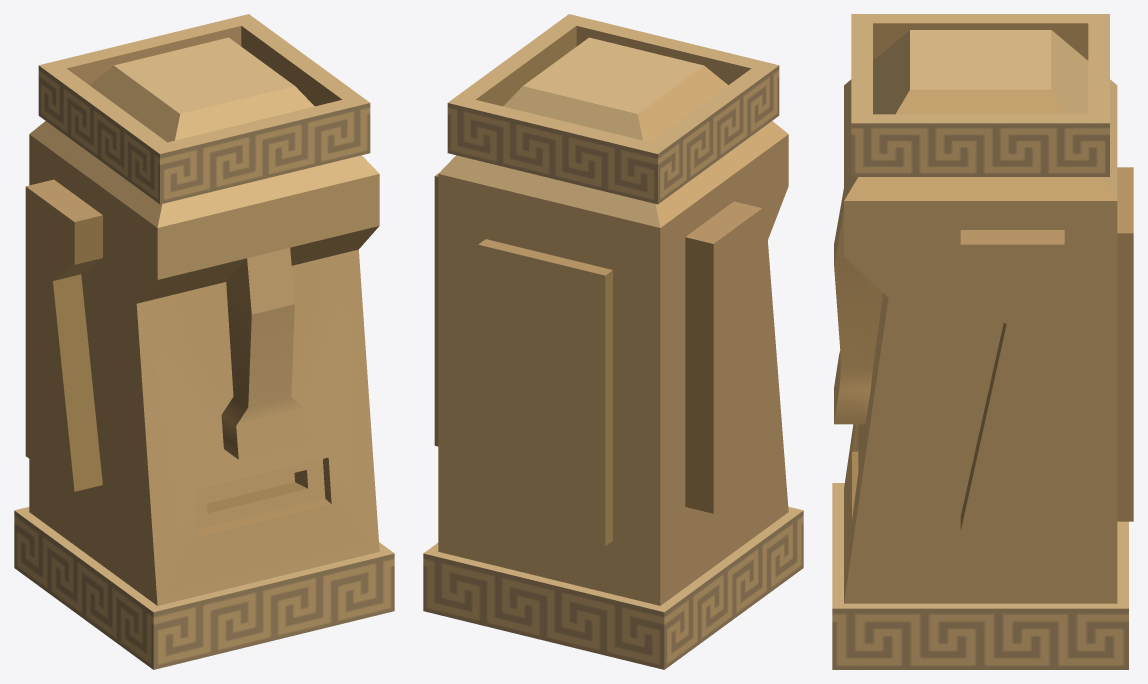
File: ST_Prop_Statue_Large_01.fbx
The picture shows the model from 3 angles, left to right: view 1: azimuth 30°, elevation 25°; view 2: azimuth 150°, elevation 25°; view 3: azimuth 270°, elevation 25°; orthographic projection. The views are drawn at different scales.
Visible parts, largest first — view 1: ST_Prop_Statue_Large_01; view 2: ST_Prop_Statue_Large_01; view 3: ST_Prop_Statue_Large_01.
Boxes of the visible parts, left/top/right/bottom form: ST_Prop_Statue_Large_01: left=14, top=14, right=394, bottom=669; ST_Prop_Statue_Large_01: left=423, top=14, right=803, bottom=669; ST_Prop_Statue_Large_01: left=832, top=14, right=1133, bottom=669.
Size of the model in its own units: 3.96 by 6.97 by 3.47.
